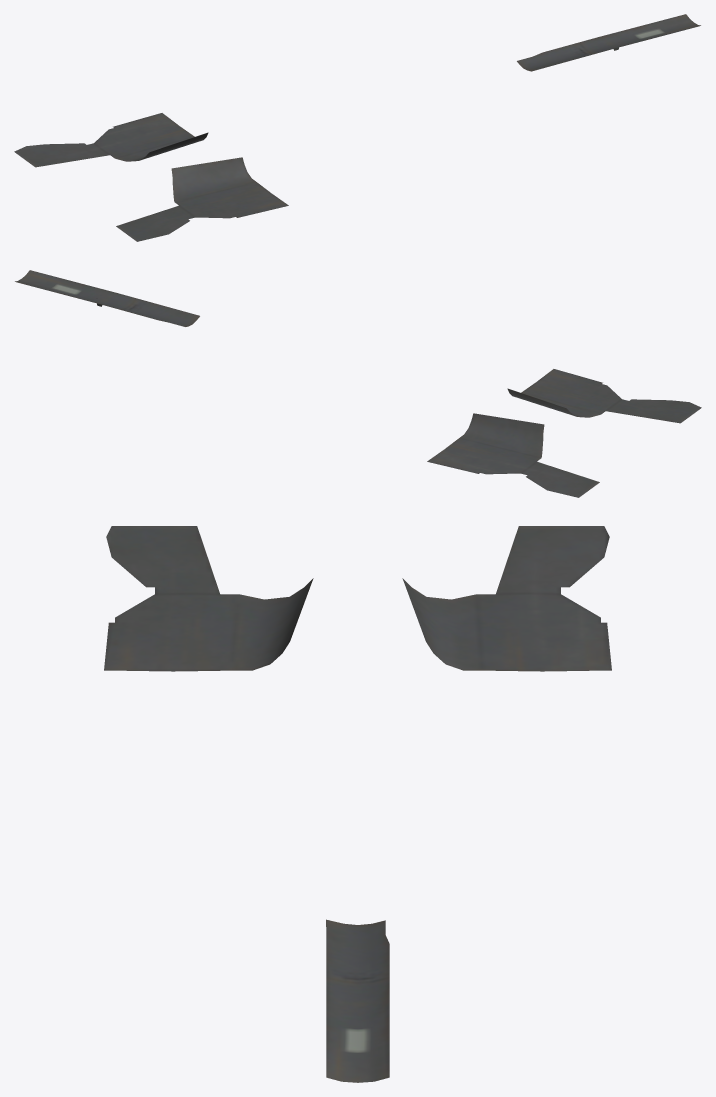
File: f15e_GearOff_SM.FBX
3 views of the same model, one above another, from view 1: azimuth 30°, elevation 25°; view 2: azimuth 150°, elevation 25°; view 3: azimuth 270°, elevation 25° (orthographic). The views are drawn at different scales.
Visible parts, largest first — view 1: f15e_GearOff_SM; view 2: f15e_GearOff_SM; view 3: f15e_GearOff_SM.
Part boxes in pixels (<box>): f15e_GearOff_SM: <box>14,14,700,241</box>; f15e_GearOff_SM: <box>15,270,701,497</box>; f15e_GearOff_SM: <box>104,526,611,1082</box>.
Bounding box in the file's own units: 76.3 × 3.12 × 27.14.
Materials: 1 (1 with a texture image).
